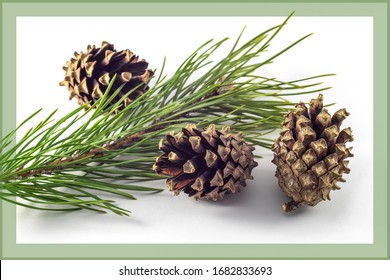Pc: (279, 100, 351, 215), (156, 126, 257, 197), (57, 42, 153, 108)
